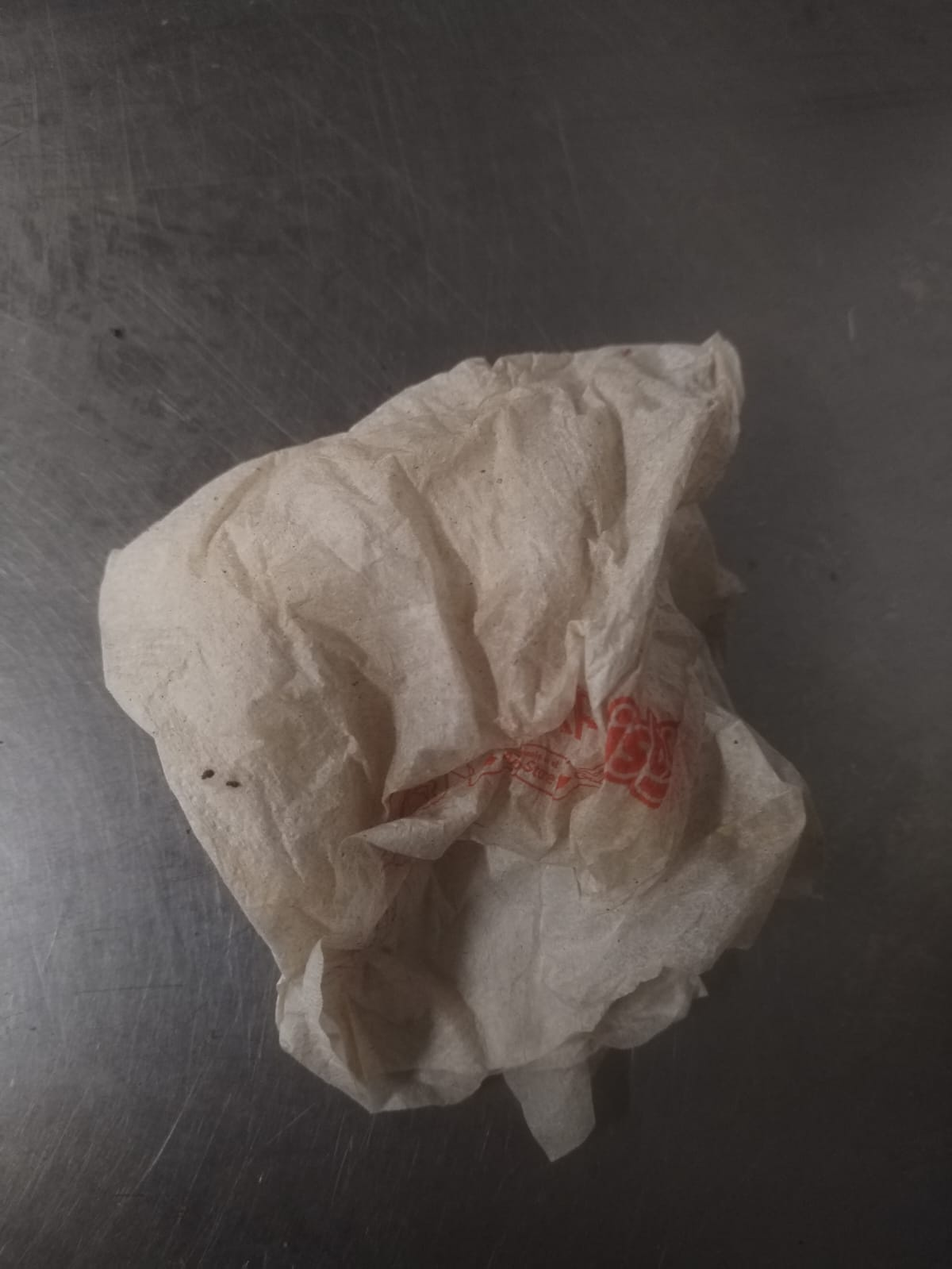Ordinario: (99, 333, 814, 1170)
